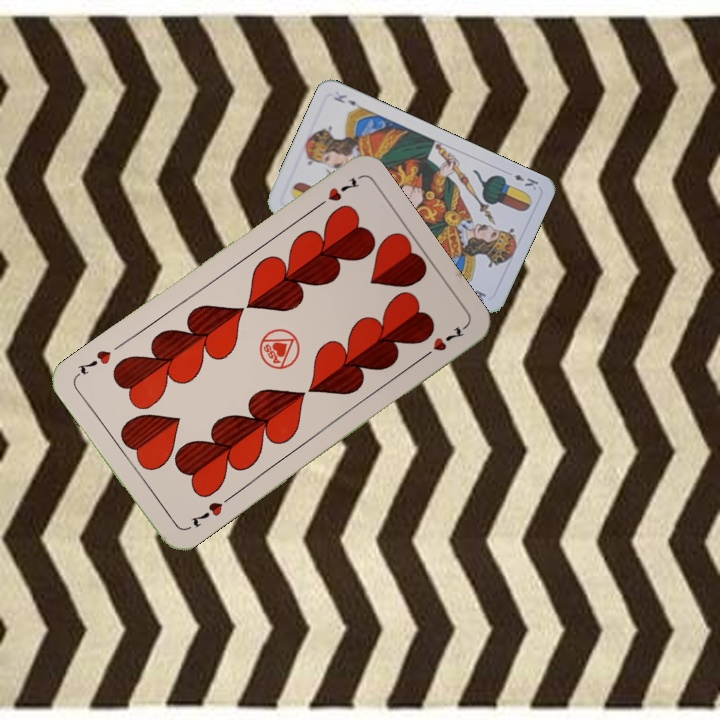EK: (510, 170, 541, 192)
H7: (310, 174, 363, 212), (187, 498, 225, 530)
